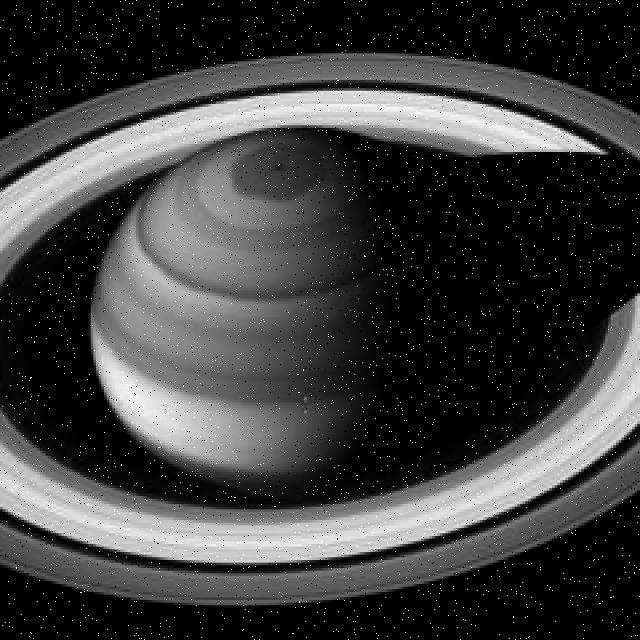Saturn: (0, 53, 640, 611)
